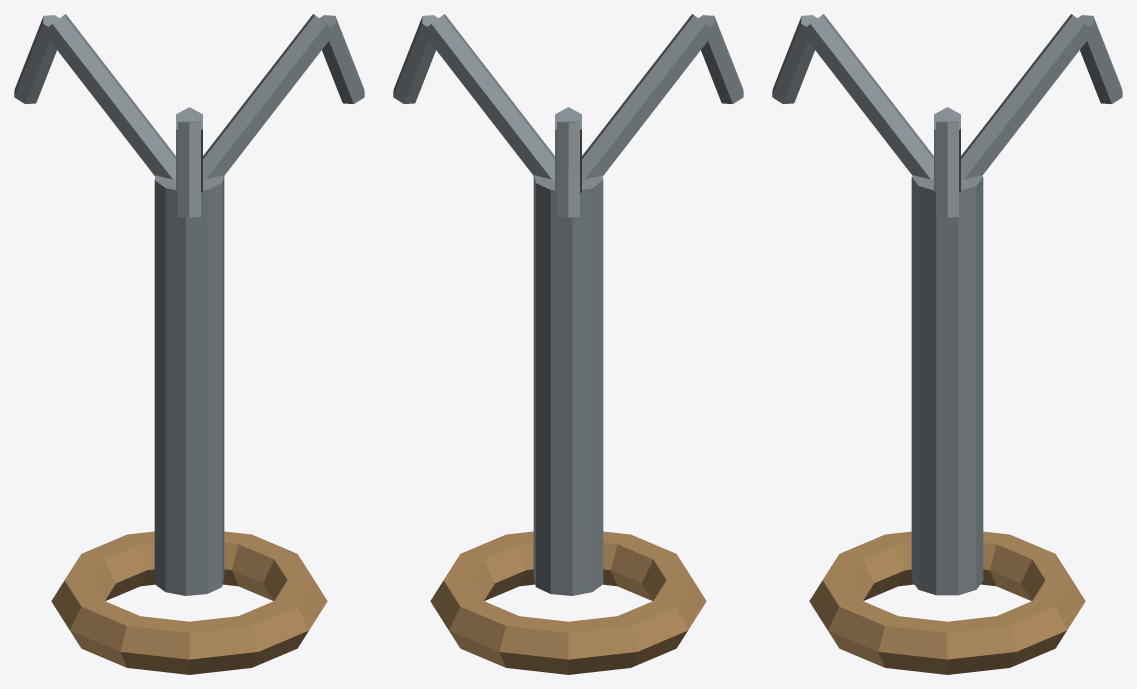
Rendered from Tool_GrapplingHook.fbx.
The picture shows the model from 3 angles, left to right: view 1: azimuth 30°, elevation 25°; view 2: azimuth 150°, elevation 25°; view 3: azimuth 270°, elevation 25°; orthographic projection.
Visible parts, largest first — view 1: Handle.004, Rope, Arm.001, Arm, Tip.003, Tip.001, Tip.002, Arm.002; view 2: Handle.004, Rope, Arm.002, Arm, Tip.002, Tip.001, Tip.003, Arm.001; view 3: Handle.004, Rope, Arm.001, Arm.002, Tip.001, Tip.002, Tip.003, Arm.
Part boxes in pixels (x1,y1,x2,y2): Handle.004: (154, 175, 224, 595); Rope: (51, 531, 327, 674); Arm.001: (43, 14, 175, 179); Arm: (203, 14, 335, 179); Tip.003: (178, 121, 200, 217); Tip.001: (319, 15, 364, 104); Tip.002: (14, 15, 59, 104); Arm.002: (176, 107, 202, 192); Handle.004: (533, 175, 603, 595); Rope: (430, 531, 706, 674); Arm.002: (582, 14, 714, 179); Arm: (422, 14, 554, 179); Tip.002: (557, 121, 579, 217); Tip.001: (393, 15, 438, 104); Tip.003: (698, 15, 743, 104); Arm.001: (555, 107, 581, 192); Handle.004: (911, 175, 983, 595); Rope: (809, 531, 1085, 674); Arm.001: (961, 14, 1093, 179); Arm.002: (801, 14, 933, 179); Tip.001: (936, 121, 958, 217); Tip.002: (1077, 15, 1122, 104); Tip.003: (772, 15, 817, 104); Arm: (934, 107, 960, 192).
Bounding box in the file's own units: 0.1526 × 0.2853 × 0.1573.
